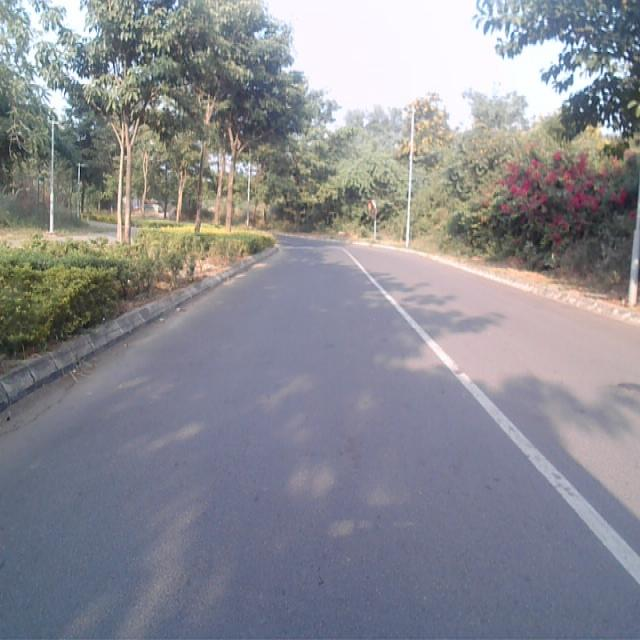lane: (0, 250, 640, 640)
